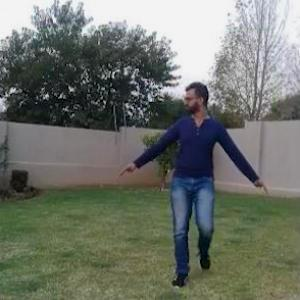land: (118, 80, 272, 282)
